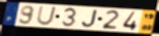2: (102, 9, 121, 30)
3: (60, 7, 78, 28)
4: (122, 11, 138, 32)
9: (18, 5, 36, 25)
J: (81, 9, 99, 28)
U: (36, 5, 58, 26)
